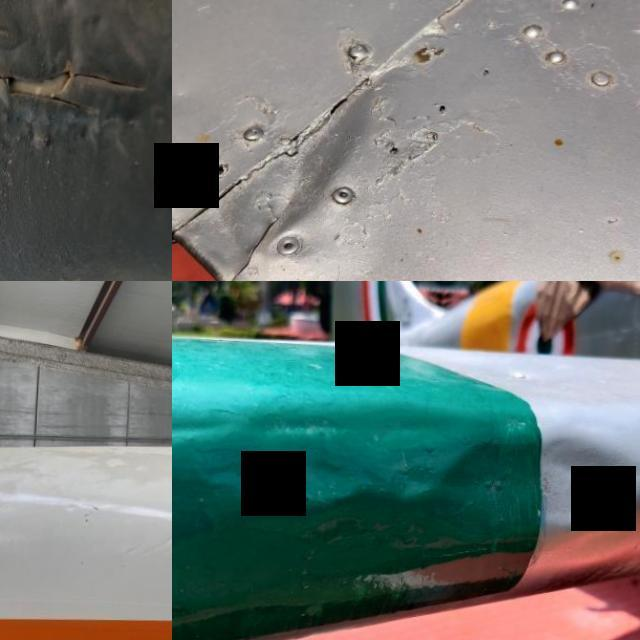Crack: (0, 36, 162, 134), (224, 190, 312, 281)
Dent: (423, 411, 640, 562), (64, 503, 82, 512)
